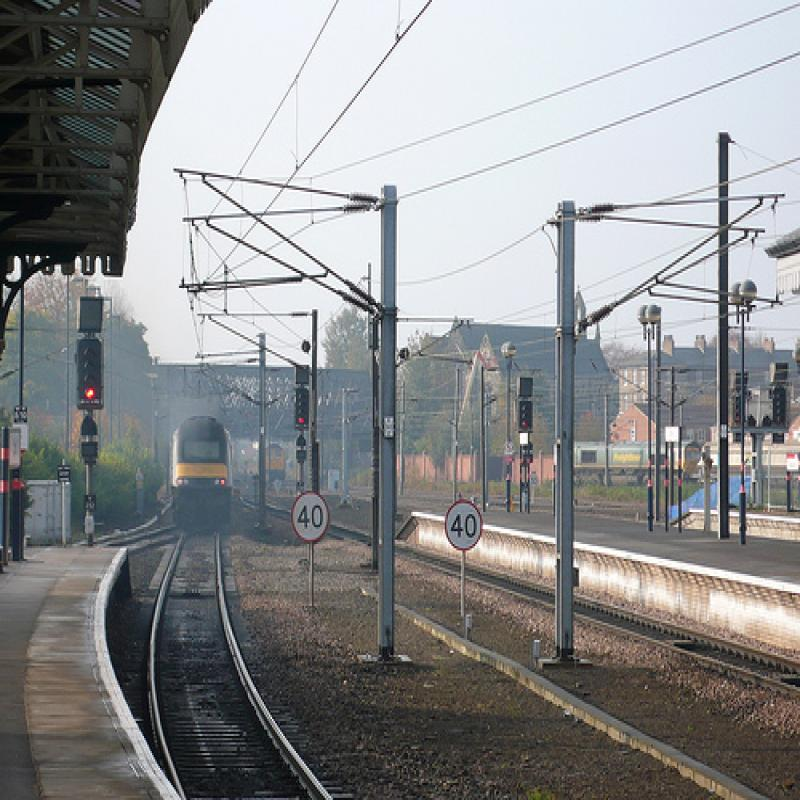train: (172, 417, 233, 536)
